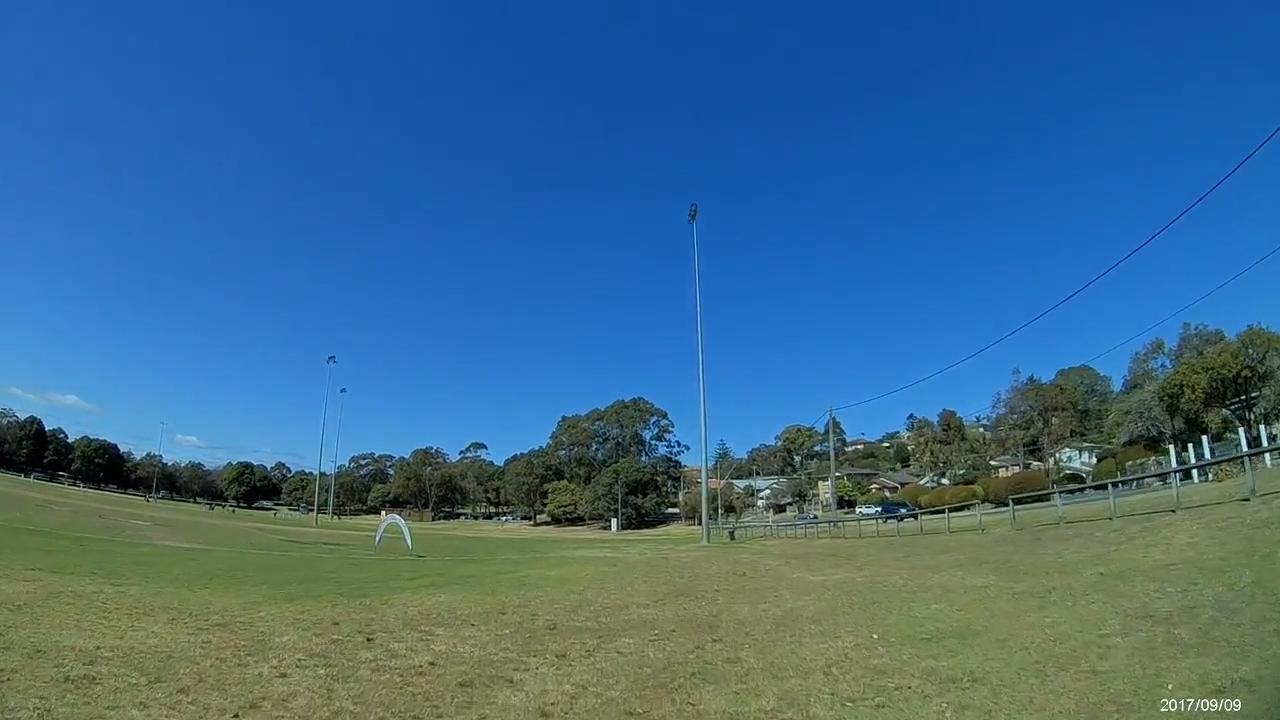gate: (374, 514, 410, 552)
